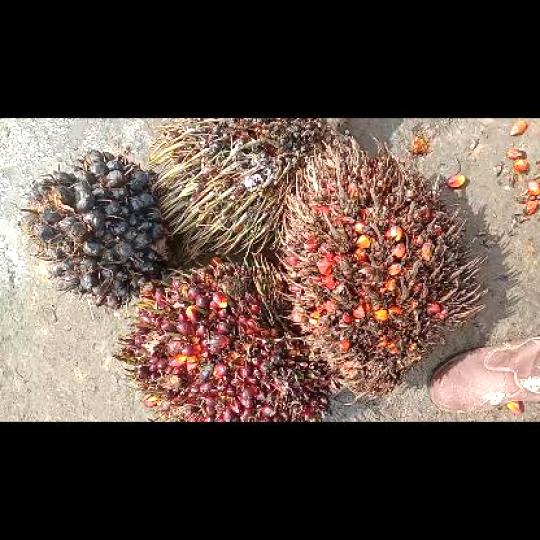masak: (116, 258, 331, 420)
terlalu masak: (280, 135, 488, 395)
